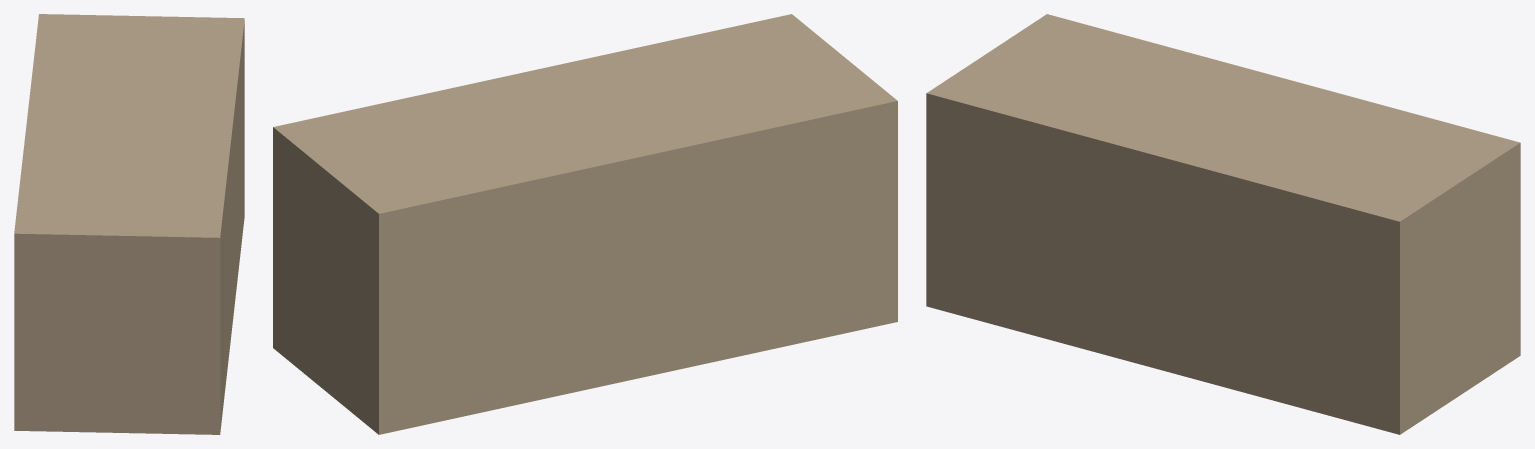
The model's file is bld_99549253.dae.
3 views of the same model, side by side, from view 1: azimuth 30°, elevation 25°; view 2: azimuth 150°, elevation 25°; view 3: azimuth 270°, elevation 25° (orthographic). The views are drawn at different scales.
Visible parts, largest first — view 1: bld_99549253; view 2: bld_99549253; view 3: bld_99549253.
Part boxes in pixels (left/top/right/bottom): bld_99549253: left=14, top=14, right=244, bottom=434; bld_99549253: left=273, top=14, right=897, bottom=434; bld_99549253: left=926, top=14, right=1520, bottom=434.
Size of the model in its own units: 16.73 by 20.2 by 8.
